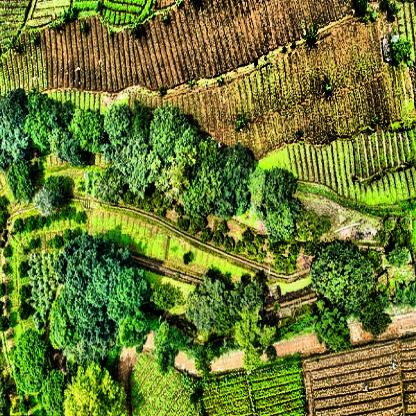tree-top: (55, 226, 125, 298), (310, 239, 371, 317), (63, 363, 126, 416), (104, 136, 154, 193), (233, 306, 276, 371), (220, 139, 253, 217), (147, 100, 187, 162), (0, 82, 28, 167), (13, 331, 46, 394), (48, 99, 78, 163), (67, 103, 102, 156), (184, 172, 217, 226), (24, 86, 50, 154), (78, 169, 119, 211), (317, 310, 353, 355), (381, 215, 411, 269), (264, 165, 296, 212), (45, 297, 72, 351), (120, 268, 153, 310), (154, 323, 178, 380), (154, 164, 189, 203), (264, 200, 298, 240), (360, 298, 389, 344), (80, 325, 115, 362), (41, 367, 66, 416), (103, 102, 130, 145), (172, 151, 202, 189), (119, 310, 148, 349), (7, 160, 32, 202), (233, 278, 261, 315), (152, 283, 182, 317), (185, 281, 229, 302), (210, 308, 237, 340), (128, 103, 150, 142), (173, 124, 202, 153), (48, 171, 70, 206), (390, 34, 414, 66), (249, 161, 264, 211), (390, 281, 416, 309), (31, 186, 54, 217)
